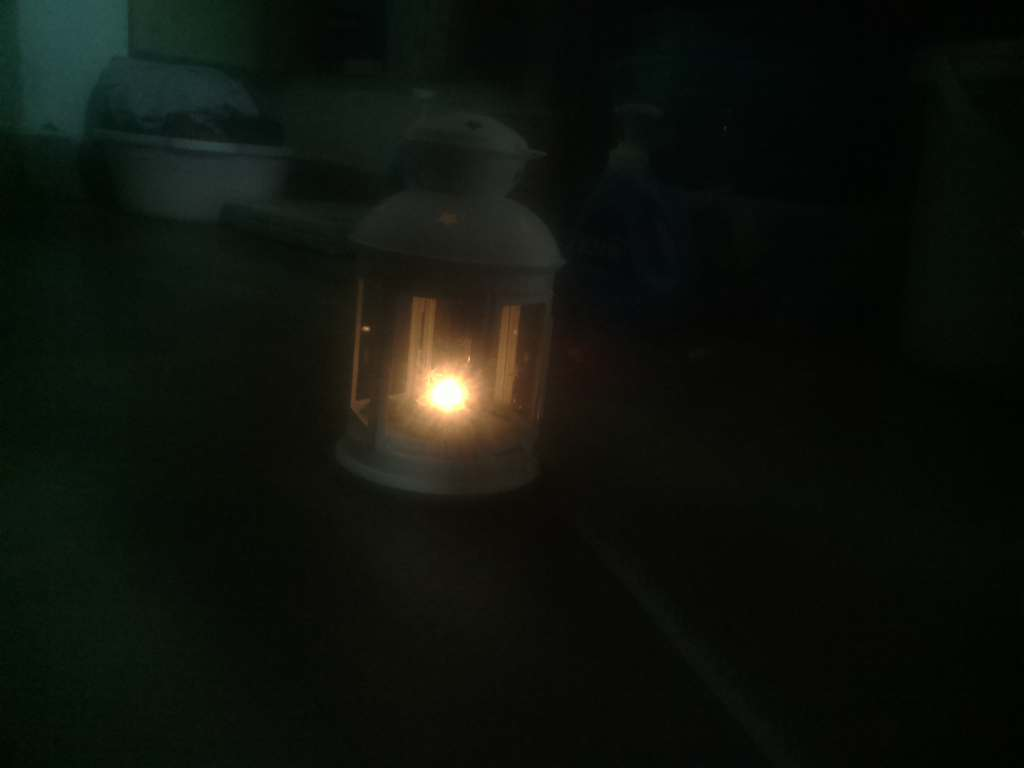fire: (392, 344, 489, 443)
